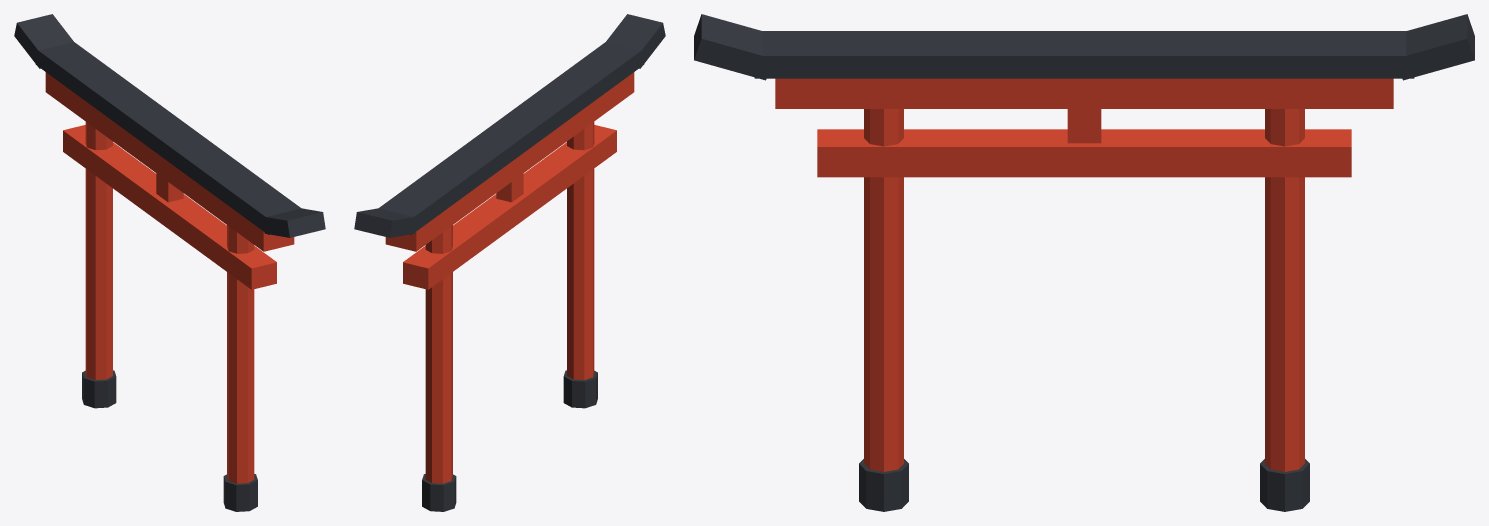
Rendered from torii_stor.glb.
3 renders of one model, left to right at view 1: azimuth 30°, elevation 25°; view 2: azimuth 150°, elevation 25°; view 3: azimuth 270°, elevation 25°, orthographic. The views are drawn at different scales.
Visible parts, largest first — view 1: torii_stor; view 2: torii_stor; view 3: torii_stor.
Part boxes in pixels (left/top/right/bottom): torii_stor: left=14, top=14, right=325, bottom=511; torii_stor: left=354, top=14, right=665, bottom=511; torii_stor: left=694, top=14, right=1474, bottom=511.
Size of the model in its own units: 1.4 by 12.55 by 18.7.
